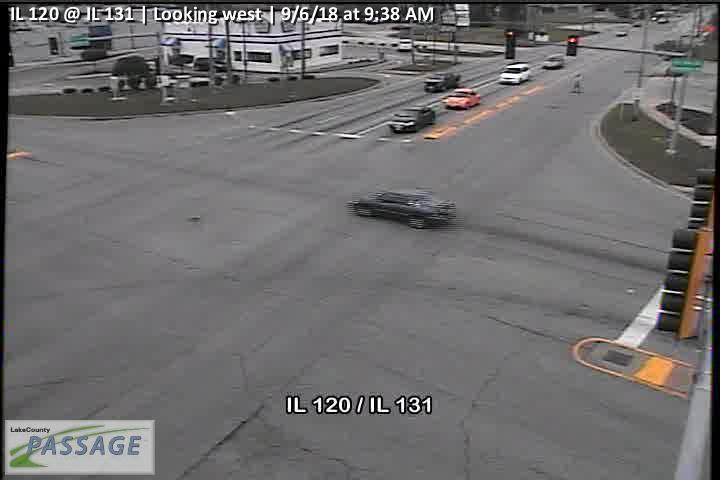SUV: (499, 62, 529, 85)
Sedan: (349, 188, 457, 229), (388, 104, 436, 133), (444, 87, 482, 110), (422, 71, 457, 92)
